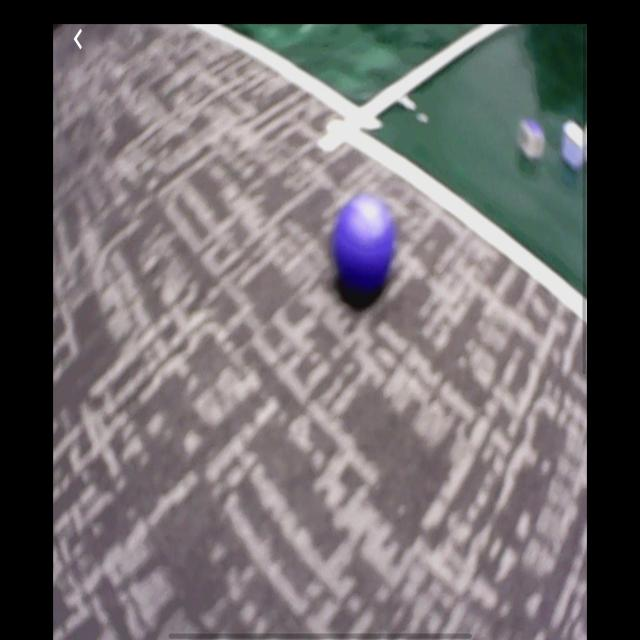ball: (332, 190, 396, 298)
